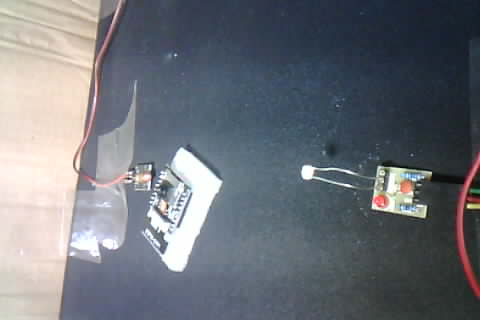esp32: (143, 145, 211, 267)
